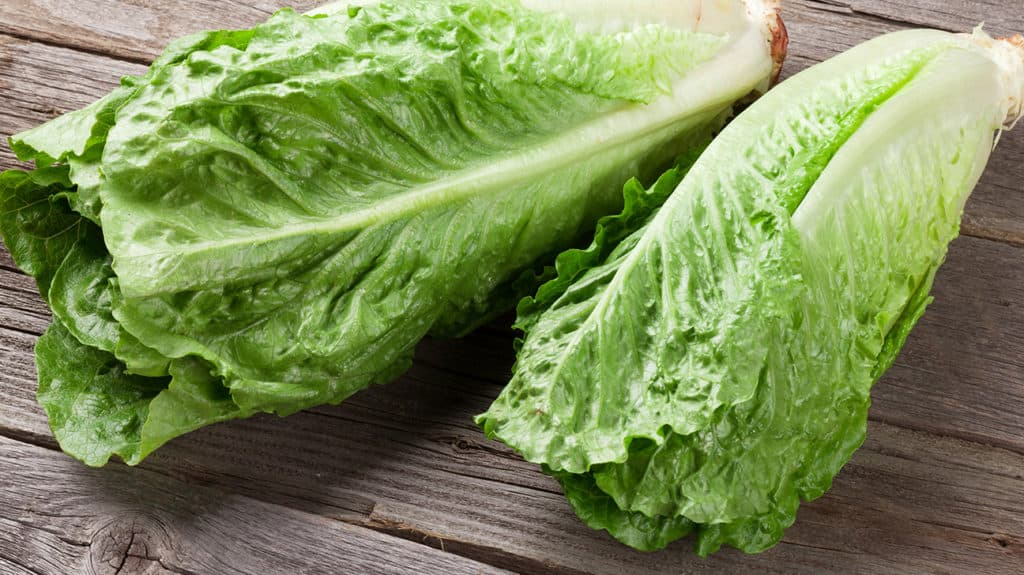Lettuce: (2, 0, 795, 488), (477, 6, 1024, 574)
